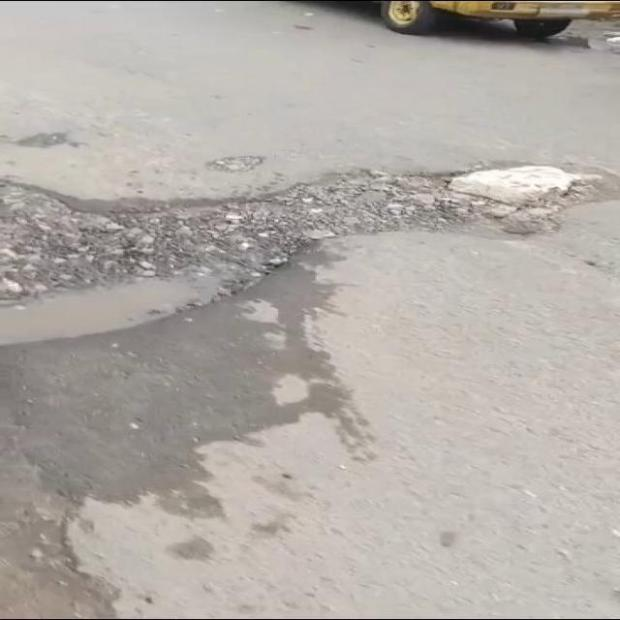lubang: (0, 166, 619, 344), (207, 155, 265, 172)
